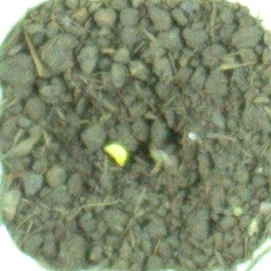chilli seed: (102, 142, 129, 167)
